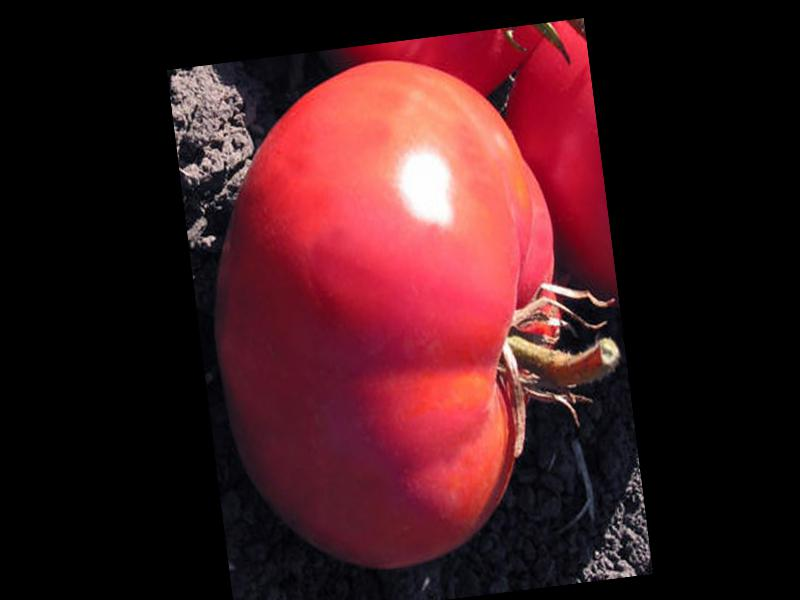Tomato: (184, 42, 589, 587)
